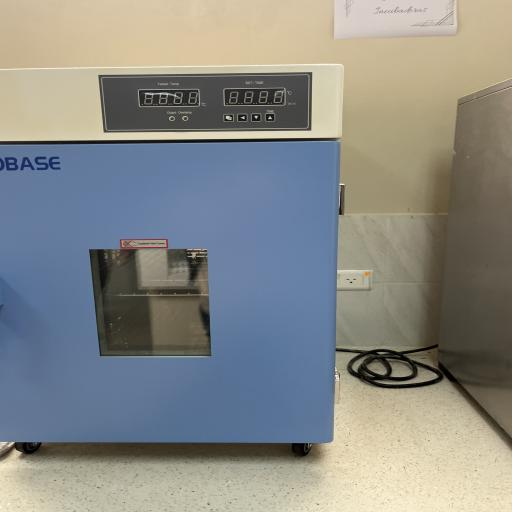Horno_Secado_Biobase: (0, 60, 353, 474)
